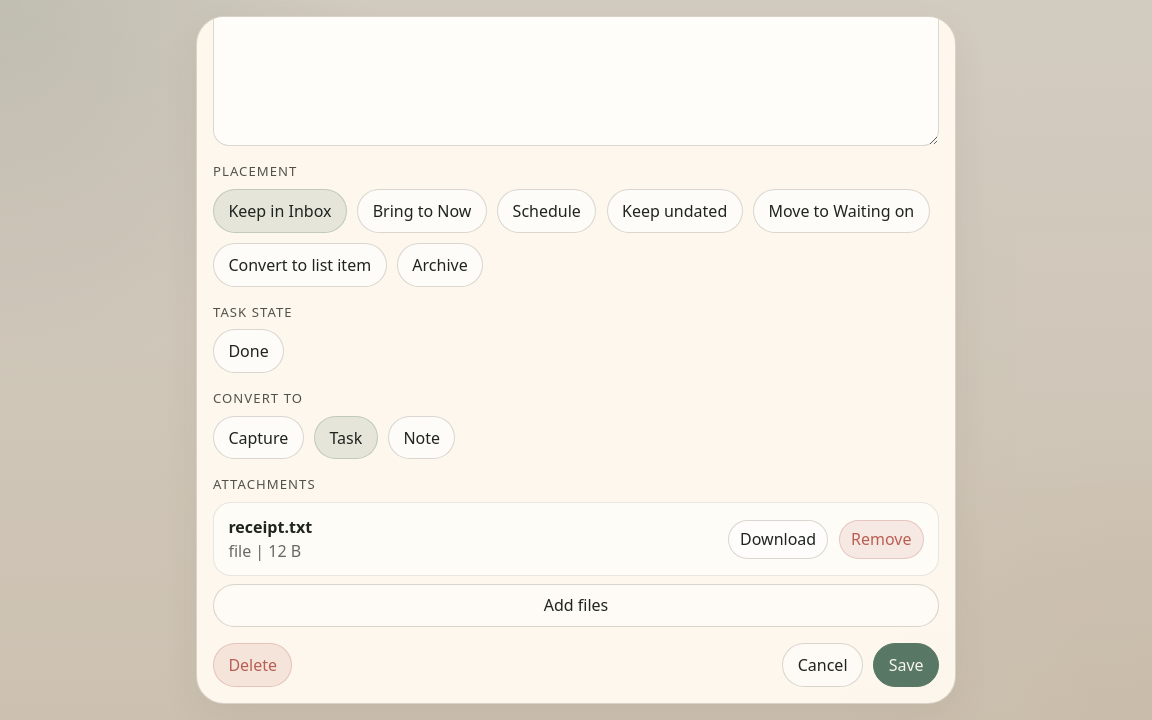
it: ItemDetailsDialog › shows a visible error when an attachment cannot be downloaded
(page scrolled)
Click the button "Download" at (778, 539), box [728,520,828,559]
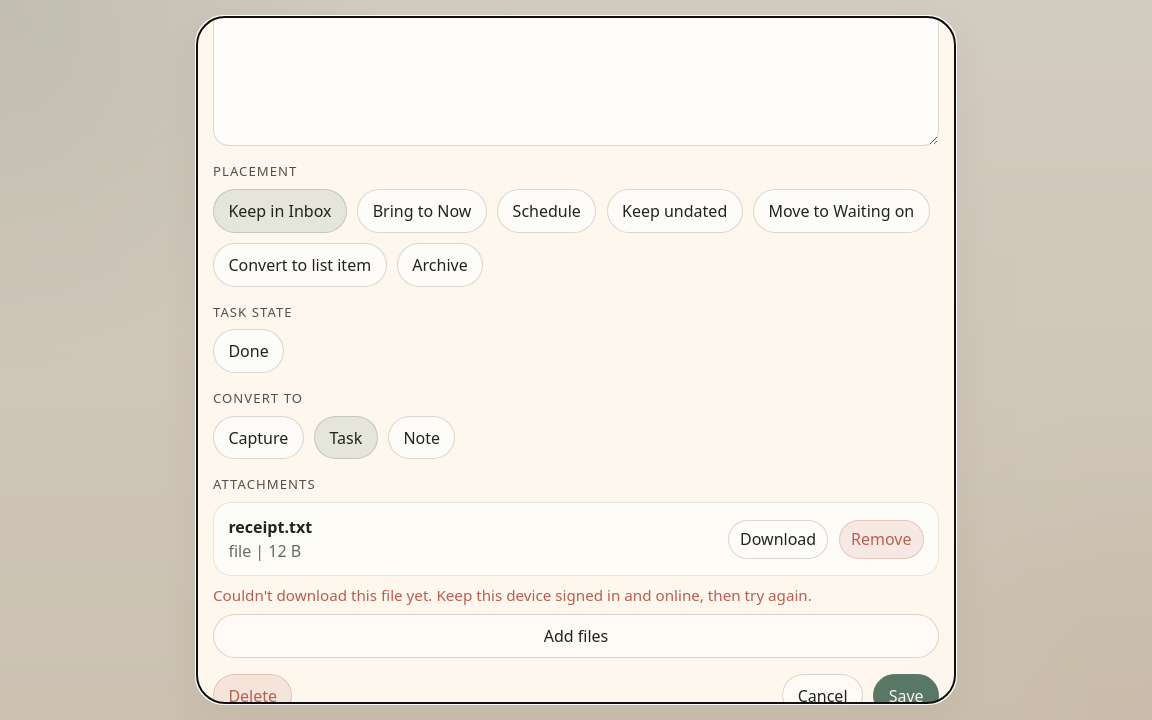
Check: the text "Couldn't download this file yet. Keep this device signed in and online, then try again." is shown, box [213,584,812,604]
